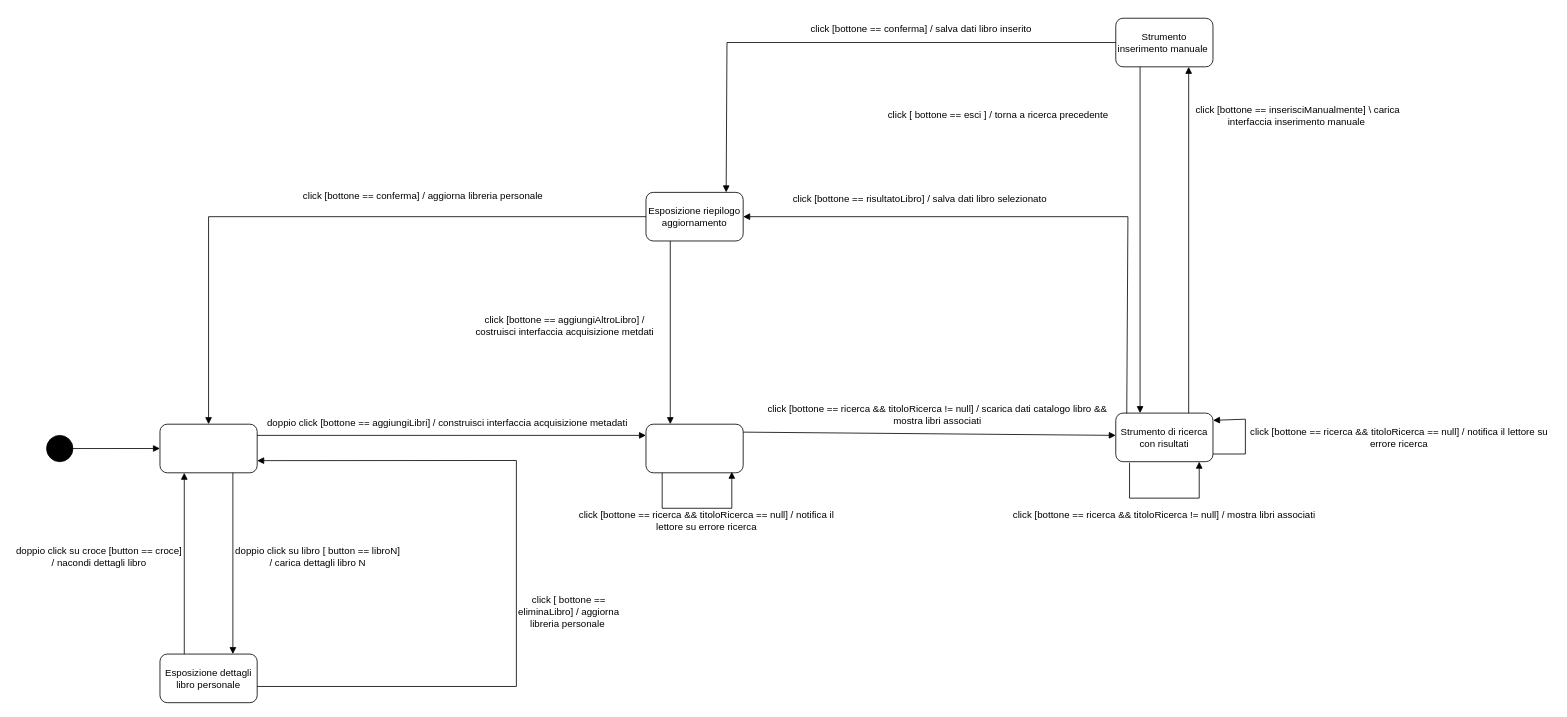
Image size: 1567x717. Some labels were removed from this diagram. The box of each missing label's shape, as (x1, y1, x2, y2) in pixels:
Esposizione Libreria Personale: (159, 423, 257, 473)
Strumento di ricerca senza risultati: (645, 423, 743, 473)
